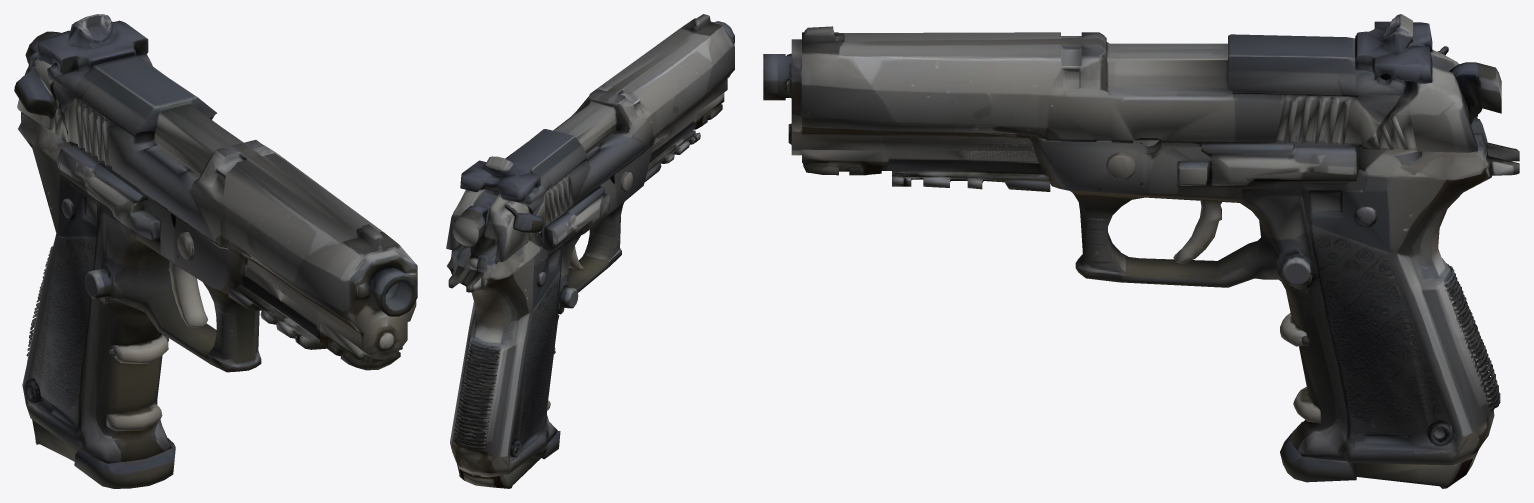
File: pistol.glb
The picture shows the model from 3 angles, left to right: view 1: azimuth 30°, elevation 25°; view 2: azimuth 150°, elevation 25°; view 3: azimuth 270°, elevation 25°; orthographic projection. The views are drawn at different scales.
Visible parts, largest first — view 1: tripo_node_5ccb3e5c-d6fc-4b23-9ac4-66d503624544; view 2: tripo_node_5ccb3e5c-d6fc-4b23-9ac4-66d503624544; view 3: tripo_node_5ccb3e5c-d6fc-4b23-9ac4-66d503624544.
Boxes of the visible parts, x1,y1,x2,y2 form: tripo_node_5ccb3e5c-d6fc-4b23-9ac4-66d503624544: (14,14,417,488); tripo_node_5ccb3e5c-d6fc-4b23-9ac4-66d503624544: (446,14,734,488); tripo_node_5ccb3e5c-d6fc-4b23-9ac4-66d503624544: (763,14,1519,488).
Size of the model in its own units: 0.1895 by 0.6582 by 0.998.
Materials: 1 (1 with a texture image).
